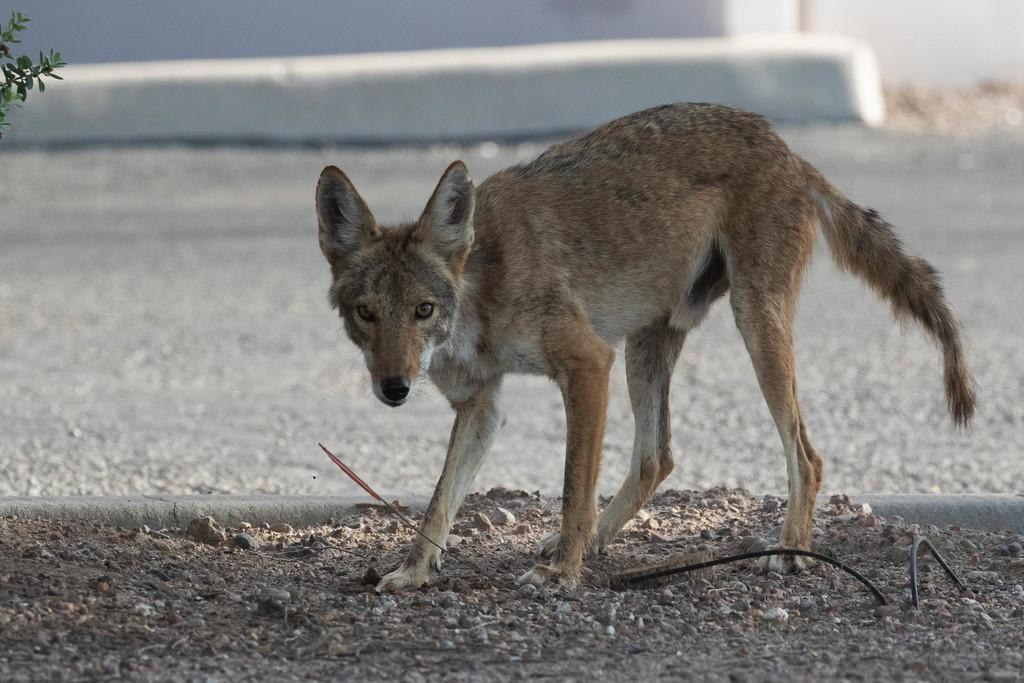Coyote: (311, 95, 979, 595)
